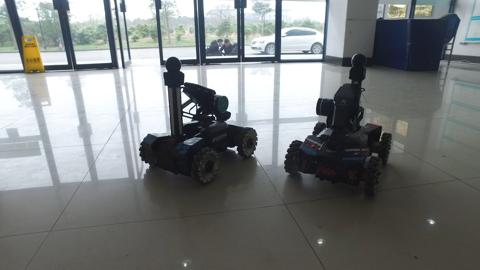chariot: (278, 50, 400, 210), (137, 54, 259, 185)
